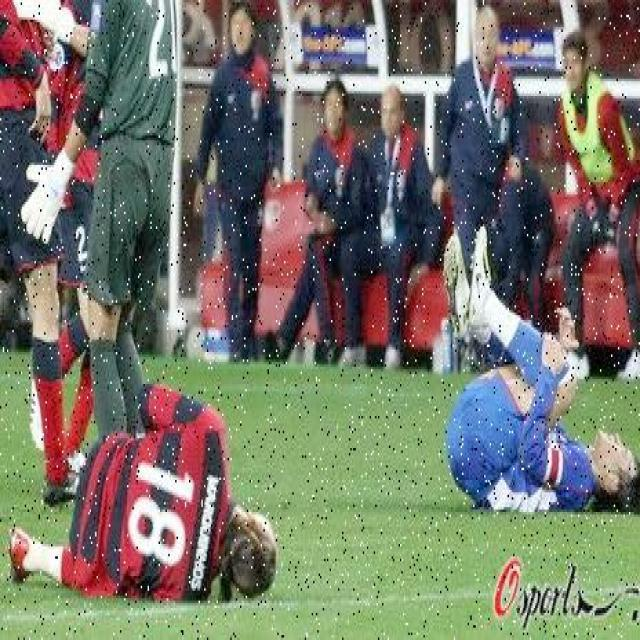fall: (29, 379, 283, 611), (430, 232, 638, 514)
